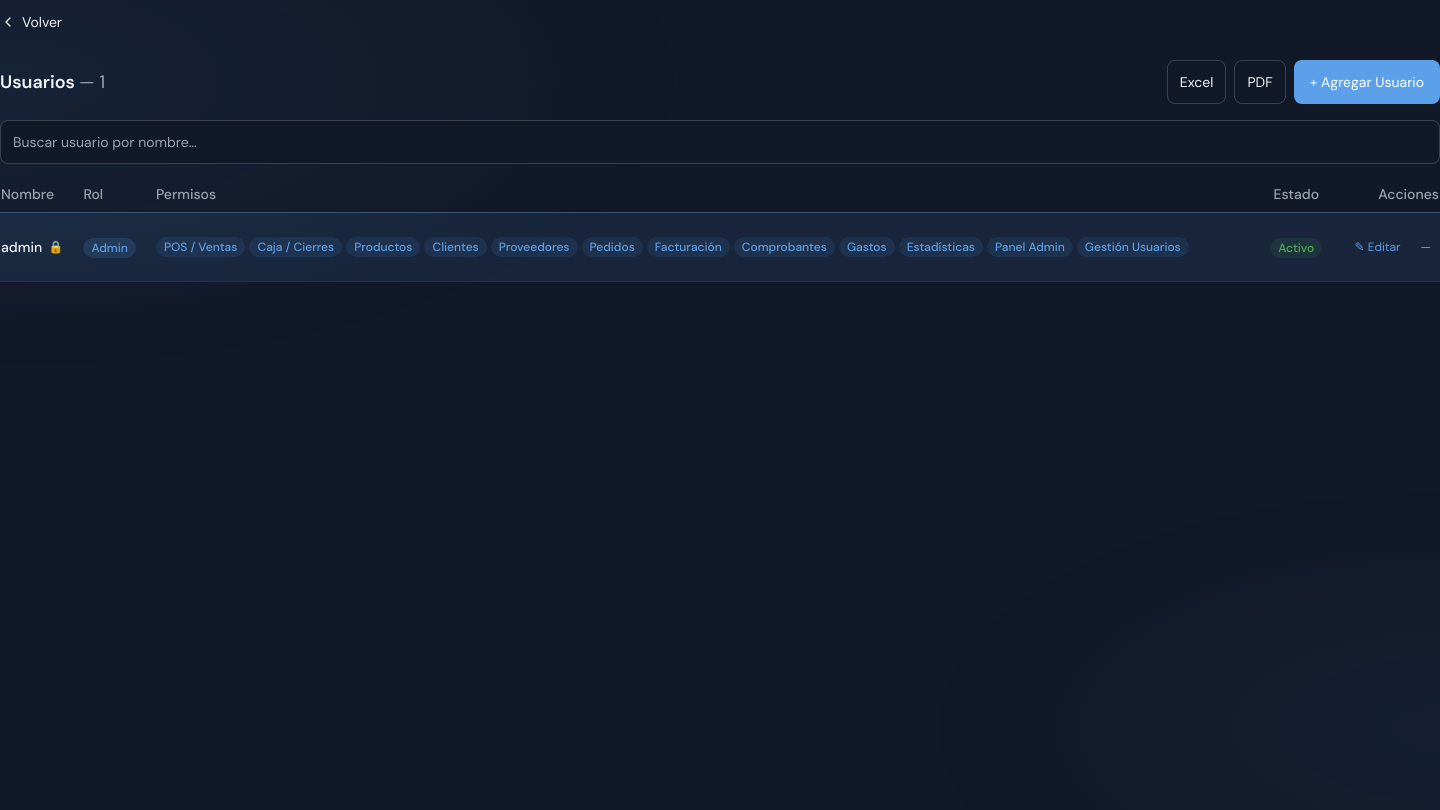
Test case: UserManagementPage › shows validation error for empty name
The width and height of the screenshot is (1440, 810).
Step 1. Click the button "+ Agregar Usuario" → (1367, 82), box 1294,60 -> 1439,104
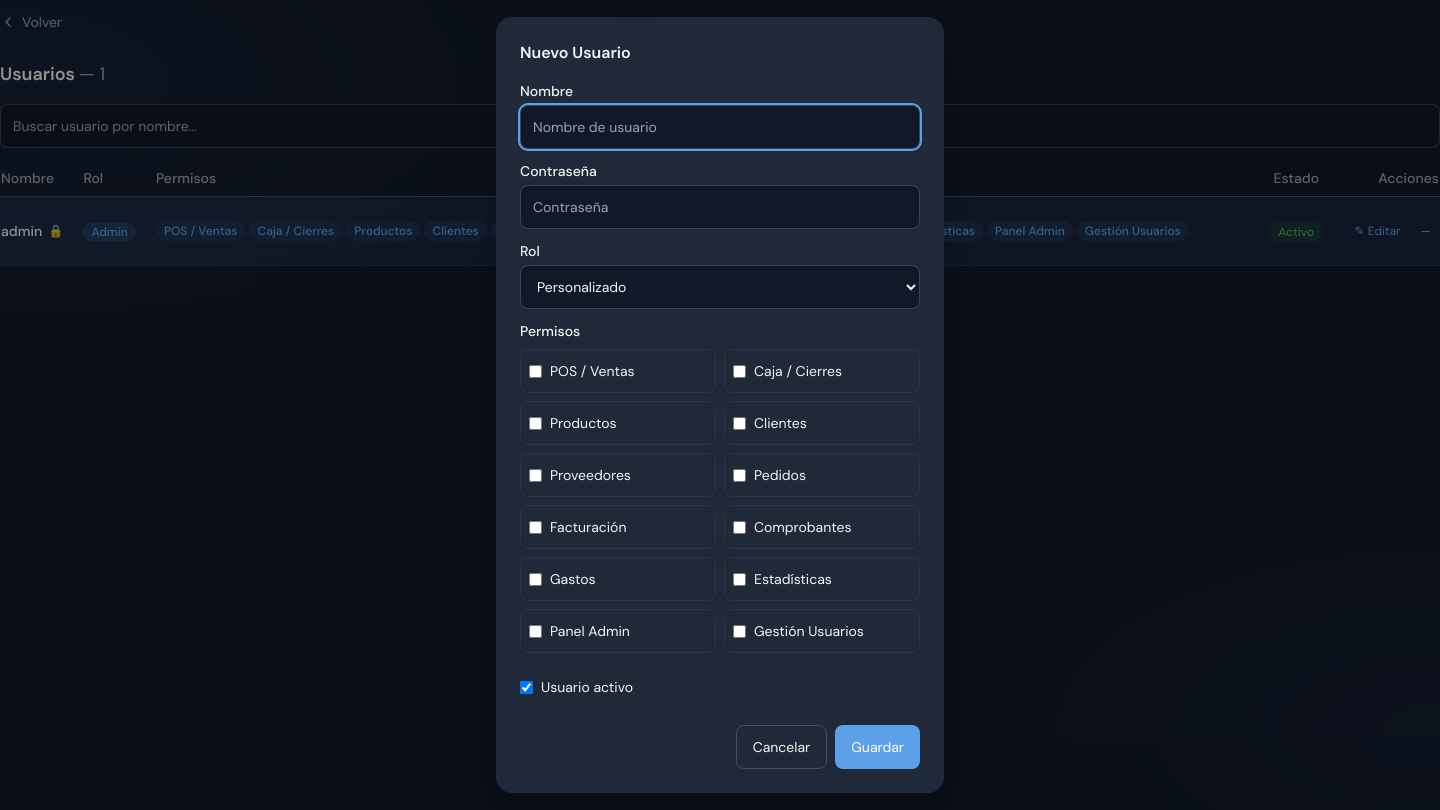
Step 2. Type "1234" into the password field with placeholder "Contraseña" → (720, 207), box 520,185 -> 920,229
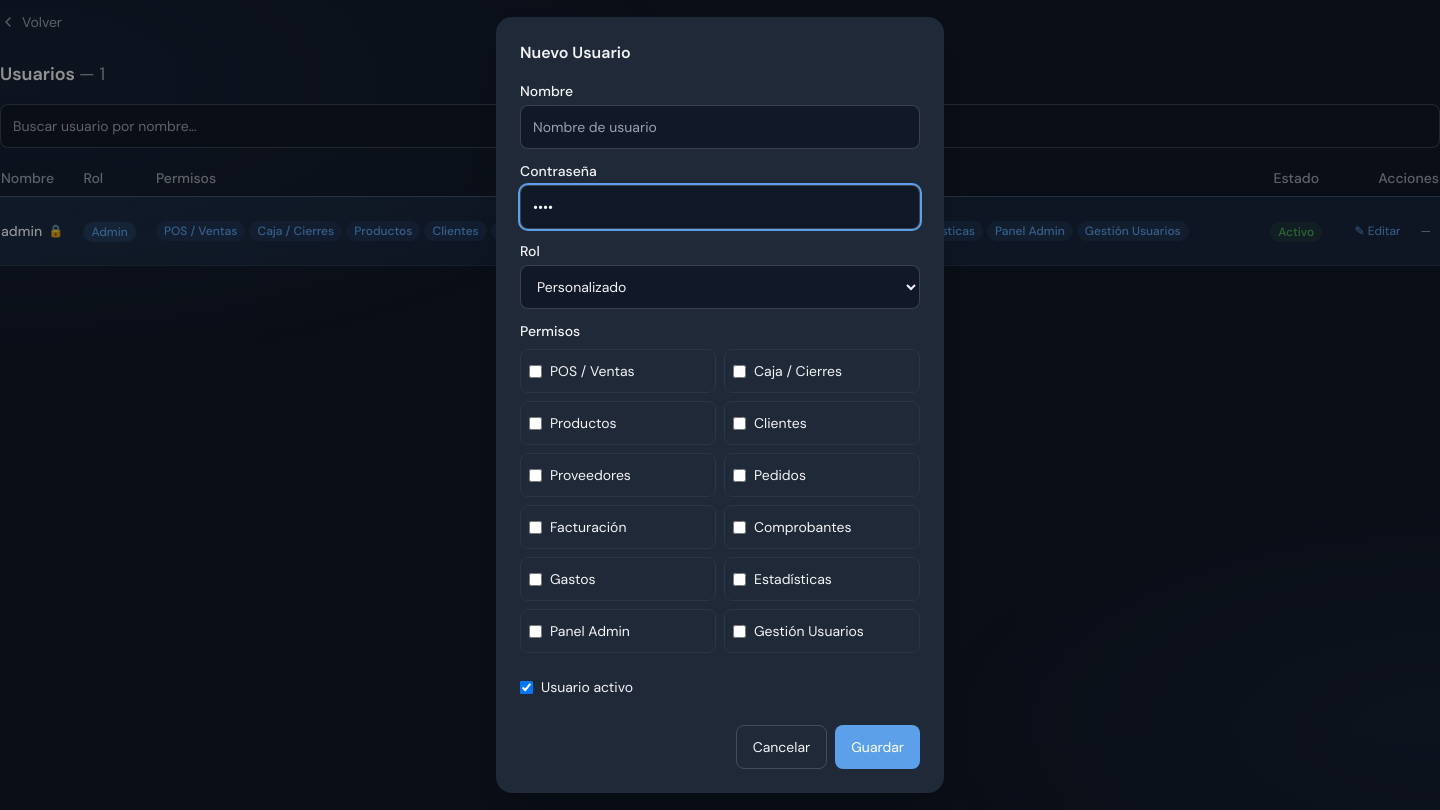
Step 3. Click the button "Guardar" → (878, 747), box 835,725 -> 920,769
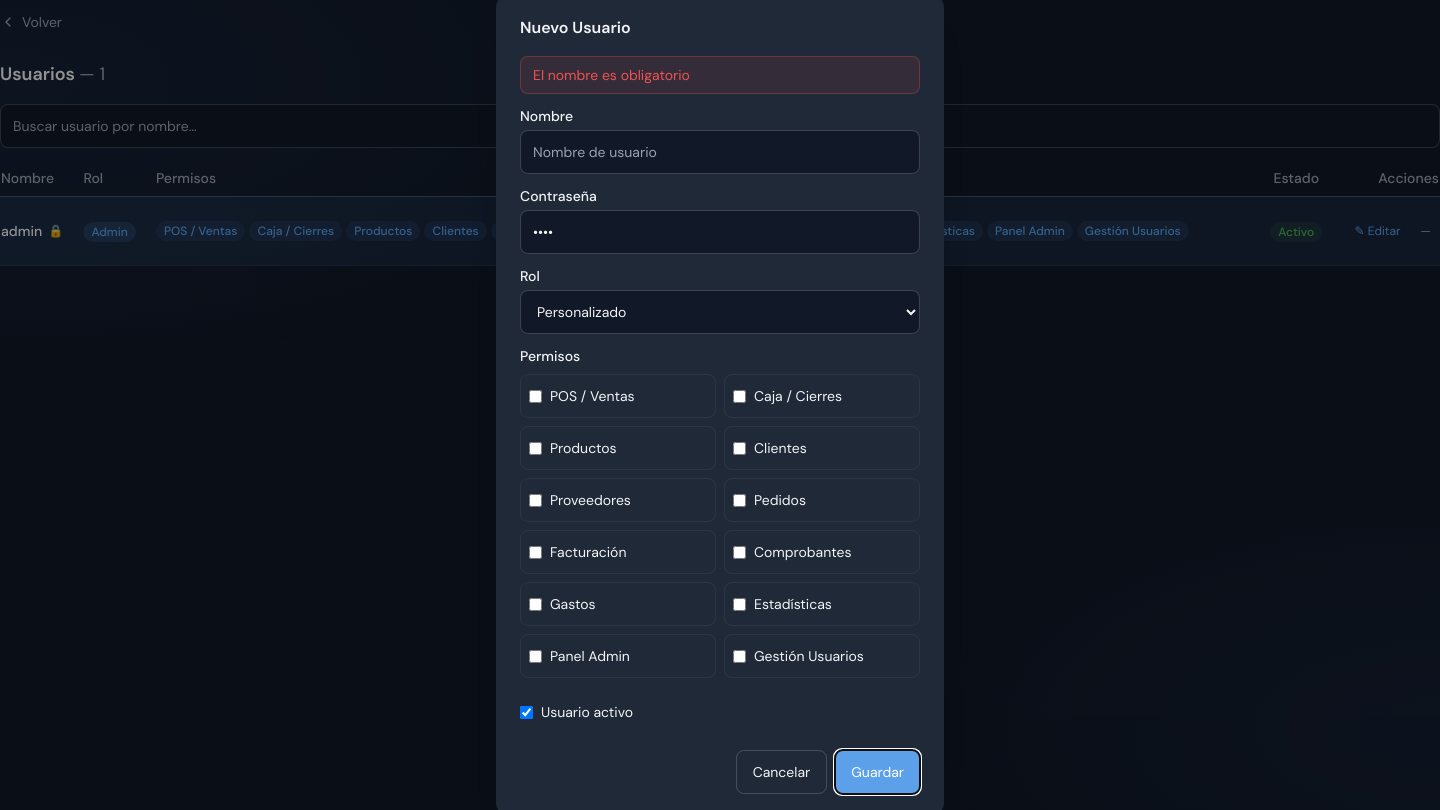
Check: the text "El nombre es obligatorio" is shown, box 520,56 -> 920,94
